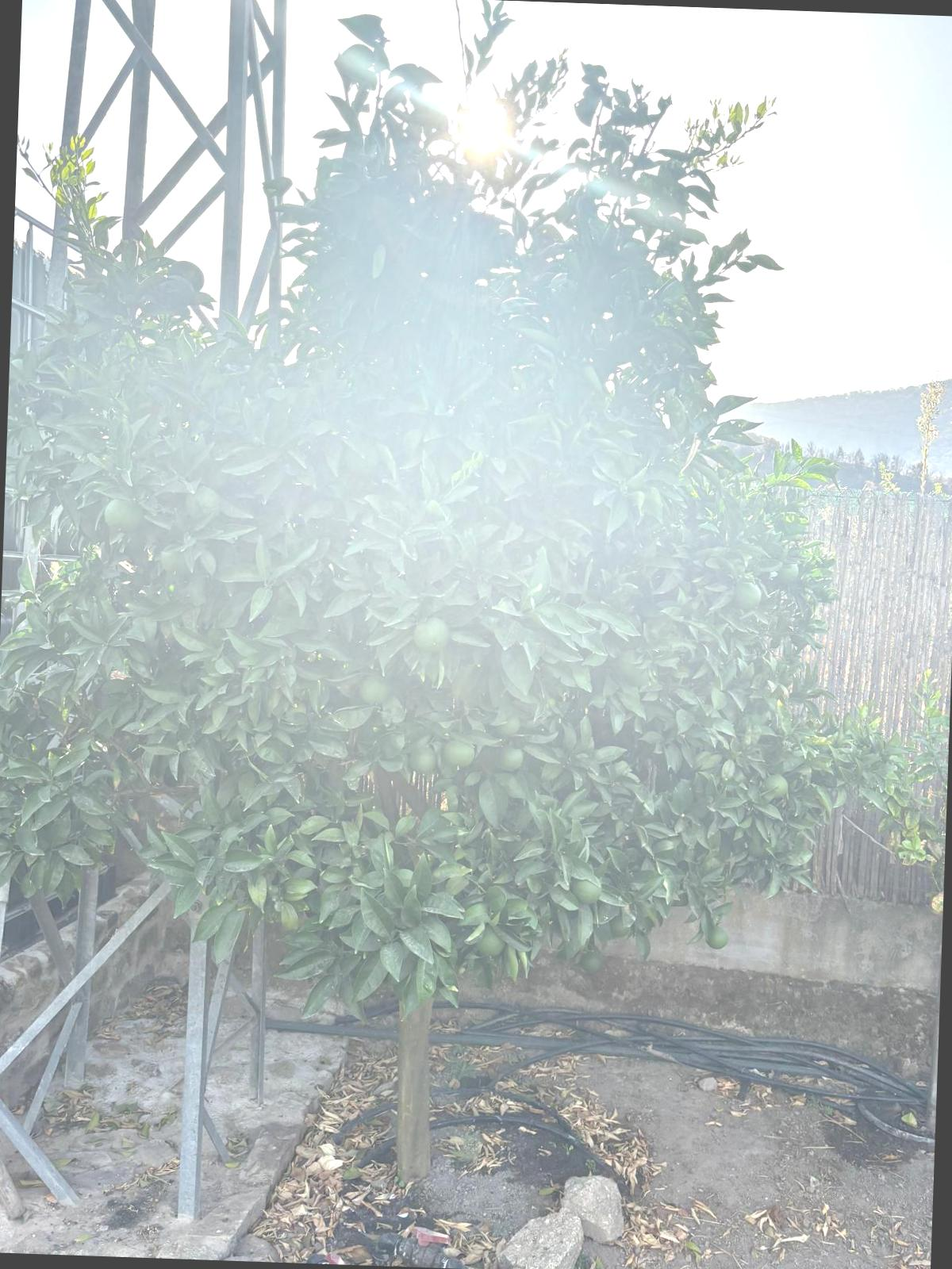naranjo: (34, 203, 896, 1192)
